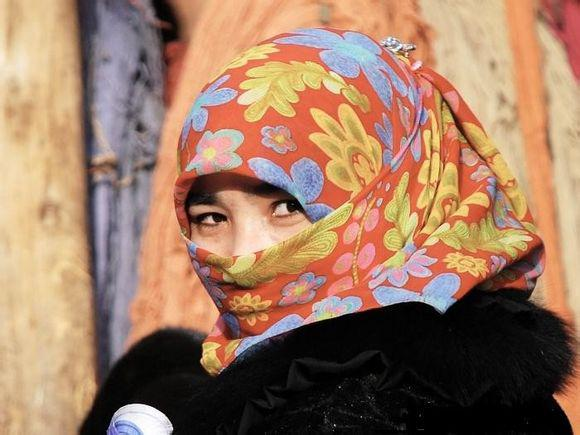WRONG: (189, 167, 366, 344)
